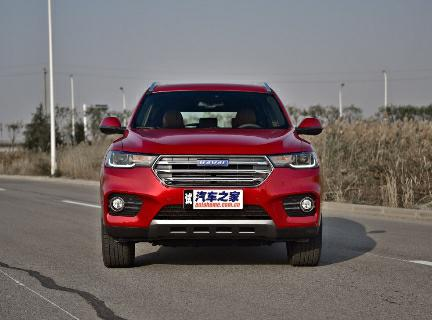哈弗-H6: (91, 78, 328, 274)
